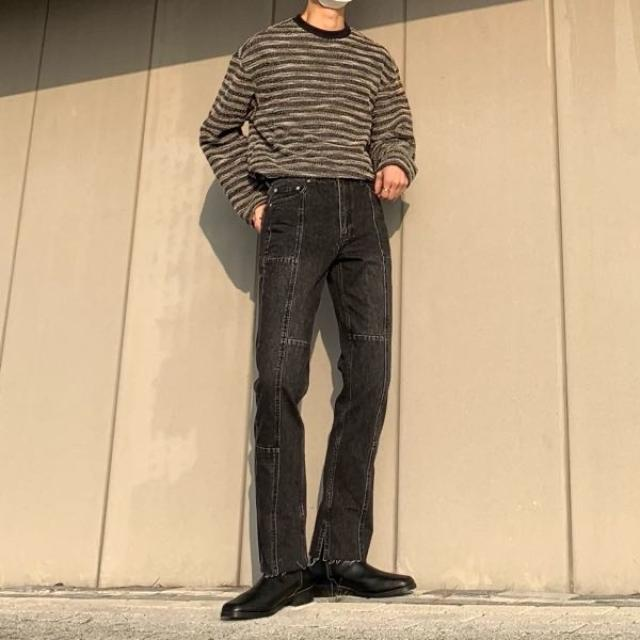denimpants: (250, 175, 385, 585)
longsleeve: (200, 15, 416, 222)
